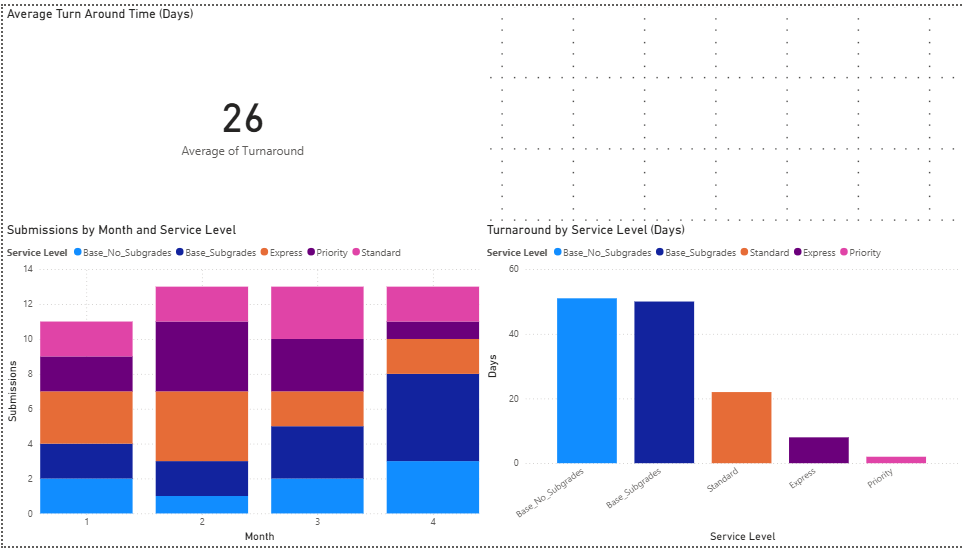

This screenshot's page, from the dashboard's own definition file:
{"tool":"powerbi","page":{"name":"TAT + Service Level","canvas":[1280,720],"ordinal":0},"visuals":[{"type":"card","title":"Average Turn Around Time (Days)","fields":{"Values":["Avg(Avg Turnaround Time.Turnaround)"]},"box":[0,0,640,288],"z":0},{"type":"columnChart","title":"Turnaround by Service Level (Days)","fields":{"Series":["Turnaround Time by Service Leve.Service_Level"],"Y":["Sum(Turnaround Time by Service Leve.Turn_around_by_service)"],"Category":["Turnaround Time by Service Leve.Service_Level"]},"box":[640,288,640,432],"z":1000},{"type":"columnChart","title":"Submissions by Month and Service Level","fields":{"Category":["Submisisons by month and servic.Month"],"Y":["Sum(Submisisons by month and servic.Submissions)"],"Series":["Submisisons by month and servic.Service_Level"]},"box":[0,288,640,432],"z":2000}]}

Visuals, with their boxes in screenshot pixels (x1, y1, x2, y2), scaled from the page's 1280x720 canvas onto the 962x554 screenshot:
"Average Turn Around Time (Days)" card: left=0, top=0, right=481, bottom=222
"Turnaround by Service Level (Days)" columnChart: left=481, top=222, right=961, bottom=553
"Submissions by Month and Service Level" columnChart: left=0, top=222, right=481, bottom=553
